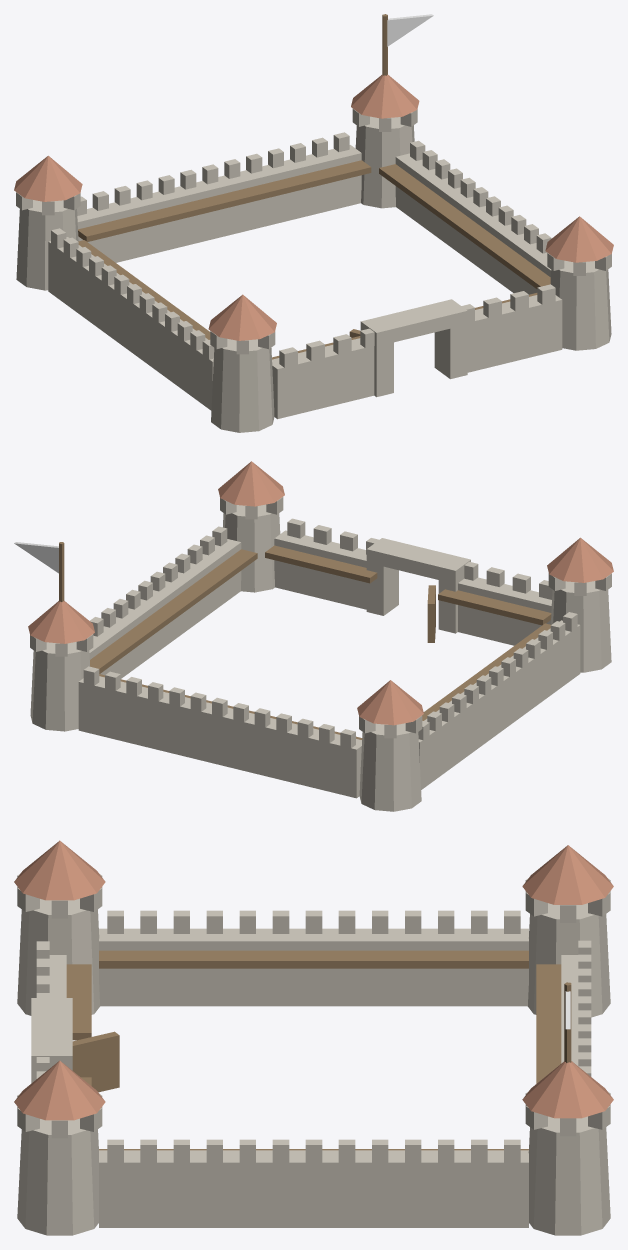
The model's file is civ_fortress.glb.
3 renders of one model, top to bottom at view 1: azimuth 30°, elevation 25°; view 2: azimuth 150°, elevation 25°; view 3: azimuth 270°, elevation 25°, orthographic. The views are drawn at different scales.
Visible parts, largest first — view 1: civ_fortress; view 2: civ_fortress; view 3: civ_fortress.
Part boxes in pixels (x1=…): civ_fortress: x1=14, y1=14, x2=613, y2=432; civ_fortress: x1=14, y1=461, x2=613, y2=811; civ_fortress: x1=14, y1=840, x2=613, y2=1235.
Size of the model in its own units: 1.91 by 0.79 by 1.83.
